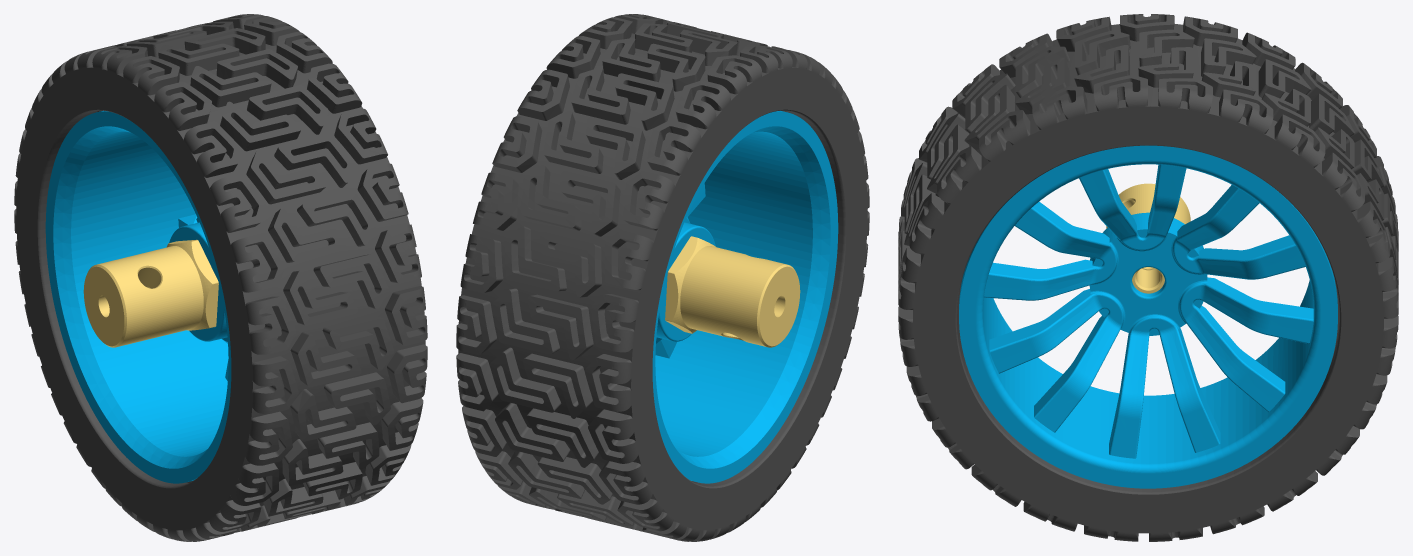
The model's file is Wheel65mm.dae.
The picture shows the model from 3 angles, left to right: view 1: azimuth 30°, elevation 25°; view 2: azimuth 150°, elevation 25°; view 3: azimuth 270°, elevation 25°; orthographic projection.
Visible parts, largest first — view 1: node1, node0, node2; view 2: node1, node0, node2; view 3: node1, node0, node2.
Boxes of the visible parts, x1,y1,x2,y2 form: node1: (14,14,427,541); node0: (45,110,231,483); node2: (83,239,218,347); node1: (456,14,869,541); node0: (652,110,838,483); node2: (665,236,800,347); node1: (898,14,1398,541); node0: (959,145,1337,488); node2: (1106,183,1190,293).
Size of the model in its own units: 0.0318 by 0.068 by 0.068.
